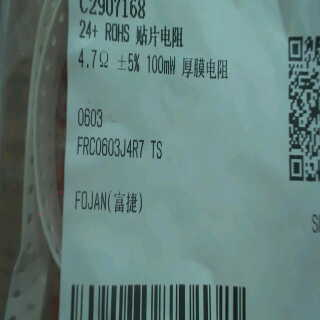4.7R: (75, 42, 116, 75)
